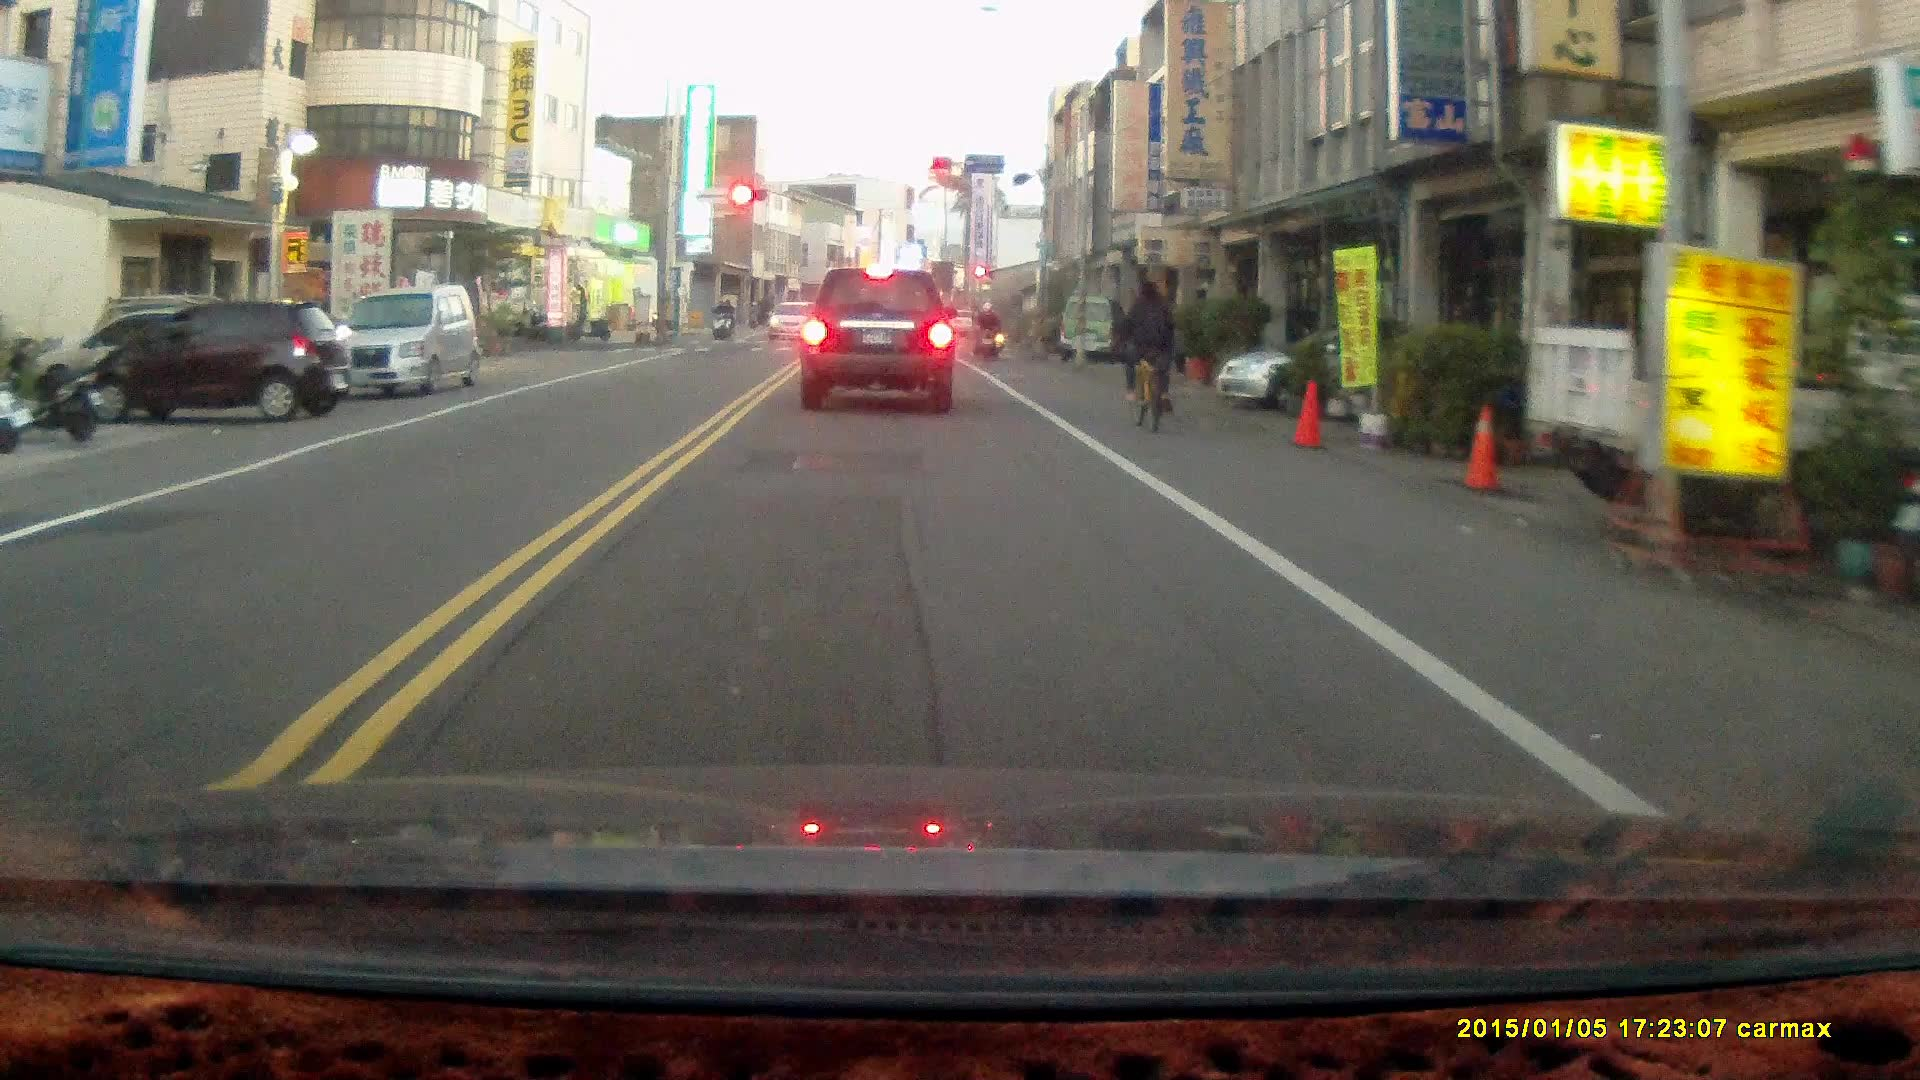rider: (1120, 276, 1176, 435), (970, 296, 1001, 360), (708, 295, 731, 341)
vehicle: (78, 297, 358, 429), (797, 266, 959, 416), (1215, 320, 1474, 412), (326, 283, 480, 401)
